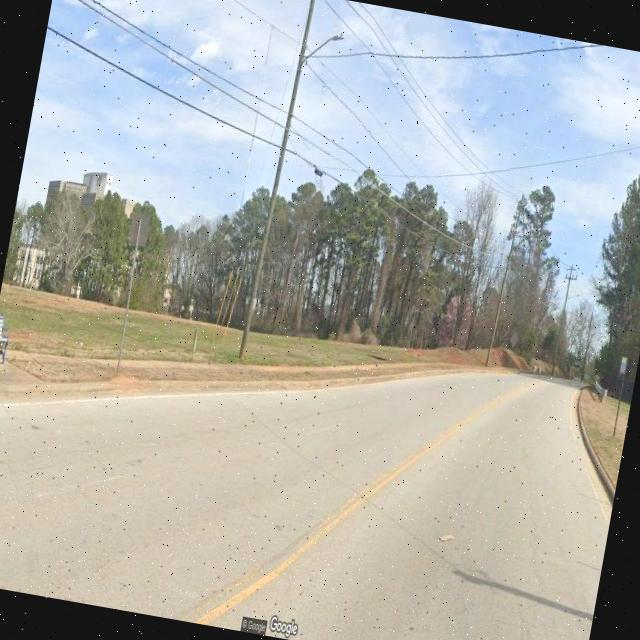seating: (0, 313, 13, 364)
